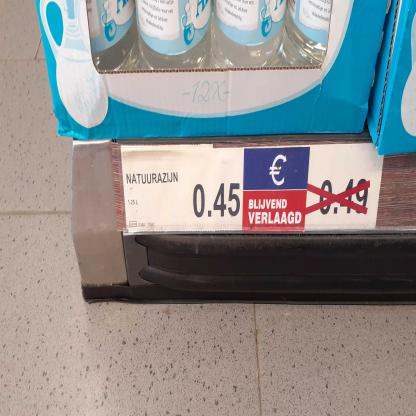prtg: (122, 147, 245, 233)
